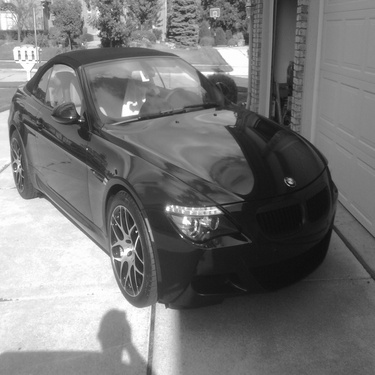car: (1, 43, 341, 312)
